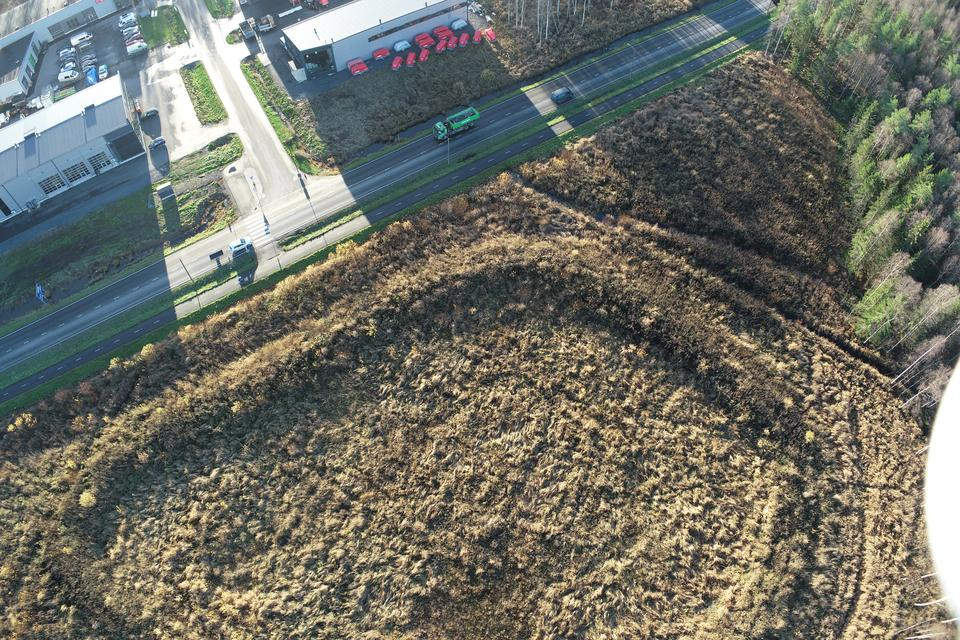intersection: (210, 148, 348, 318)
